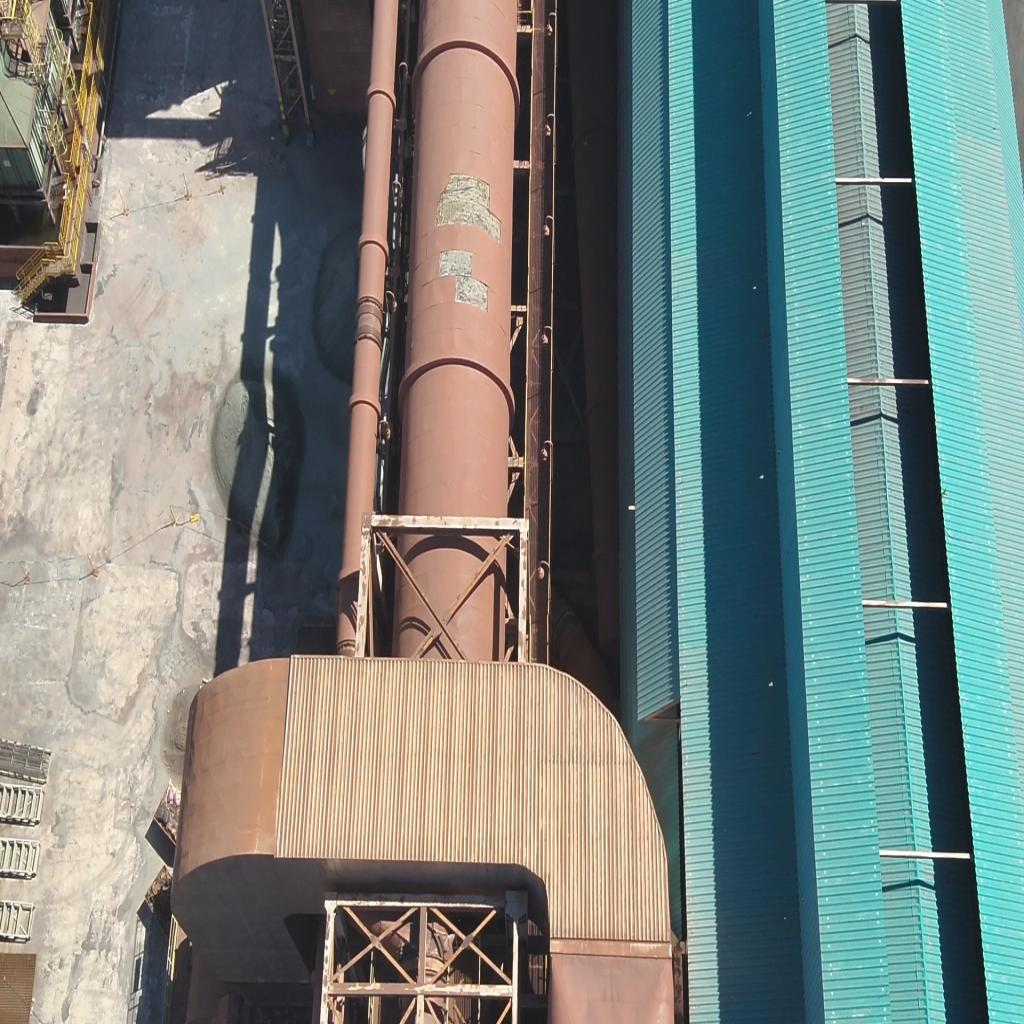Failures: (435, 173, 502, 241), (456, 276, 489, 312), (439, 252, 473, 280)
